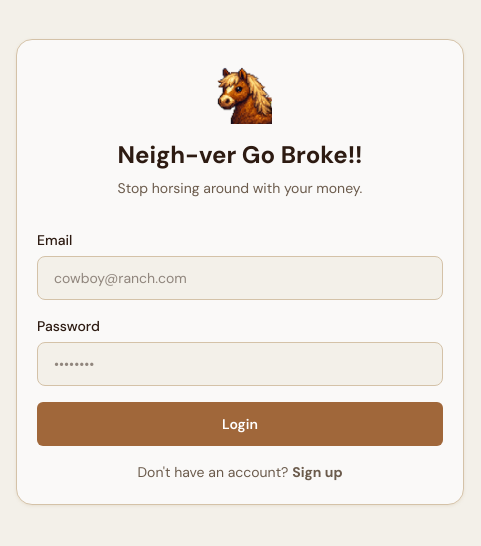
LoginPage › shows validation error for invalid email
Step 1. Type "notanemail" into the field with placeholder "cowboy@ranch.com" → (240, 278), box [37,256,443,300]
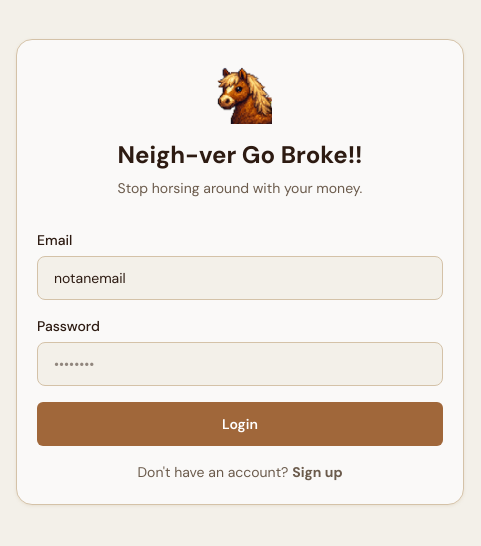
Step 2. Click the button "Login" → click(240, 424), box [37,402,443,446]
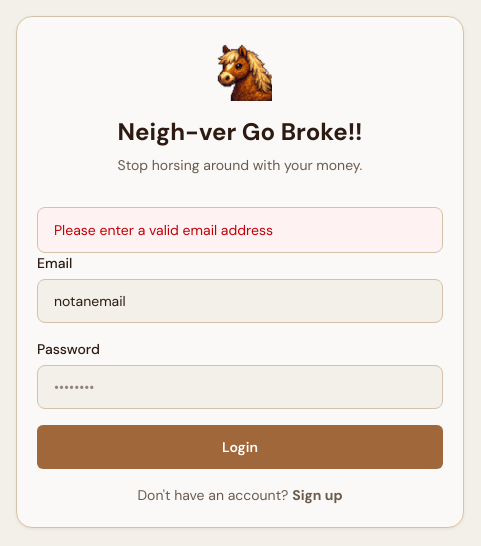
Result: the text "Please enter a valid email address" is shown at [37,207,443,253]
